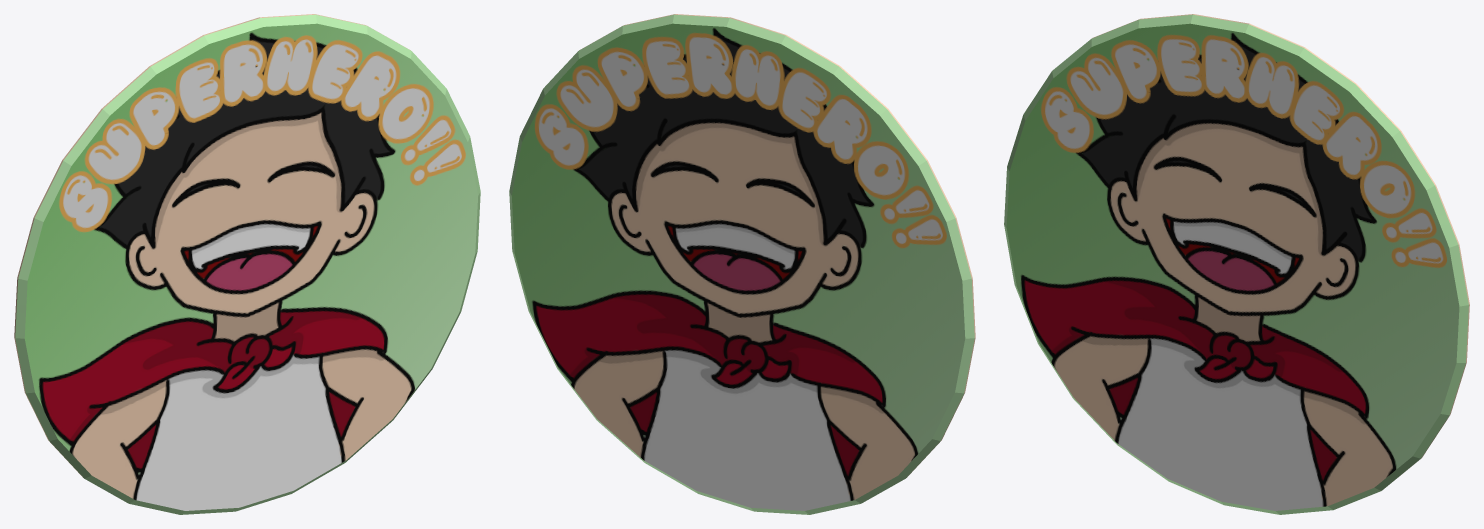
Rendered from SUPERHERO!.fbx.
The picture shows the model from 3 angles, left to right: view 1: azimuth 30°, elevation 25°; view 2: azimuth 150°, elevation 25°; view 3: azimuth 330°, elevation 25°; orthographic projection.
Parts seen in each view (by area): view 1: Cylinder; view 2: Cylinder; view 3: Cylinder.
Part boxes in pixels (x1=…): Cylinder: x1=14, y1=14, x2=480, y2=514; Cylinder: x1=509, y1=14, x2=975, y2=514; Cylinder: x1=1004, y1=14, x2=1469, y2=514.
Size of the model in its own units: 200 by 200 by 5.87.
